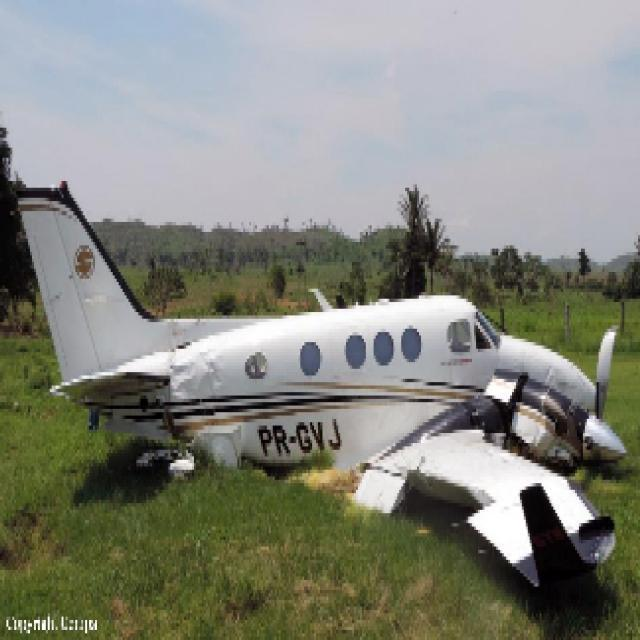dent: (170, 350, 225, 420)
